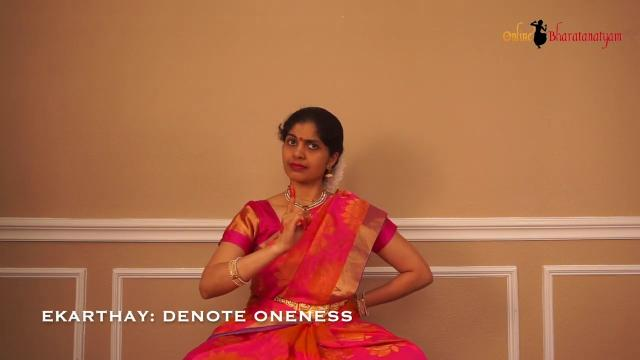soochi: (274, 178, 320, 262)
